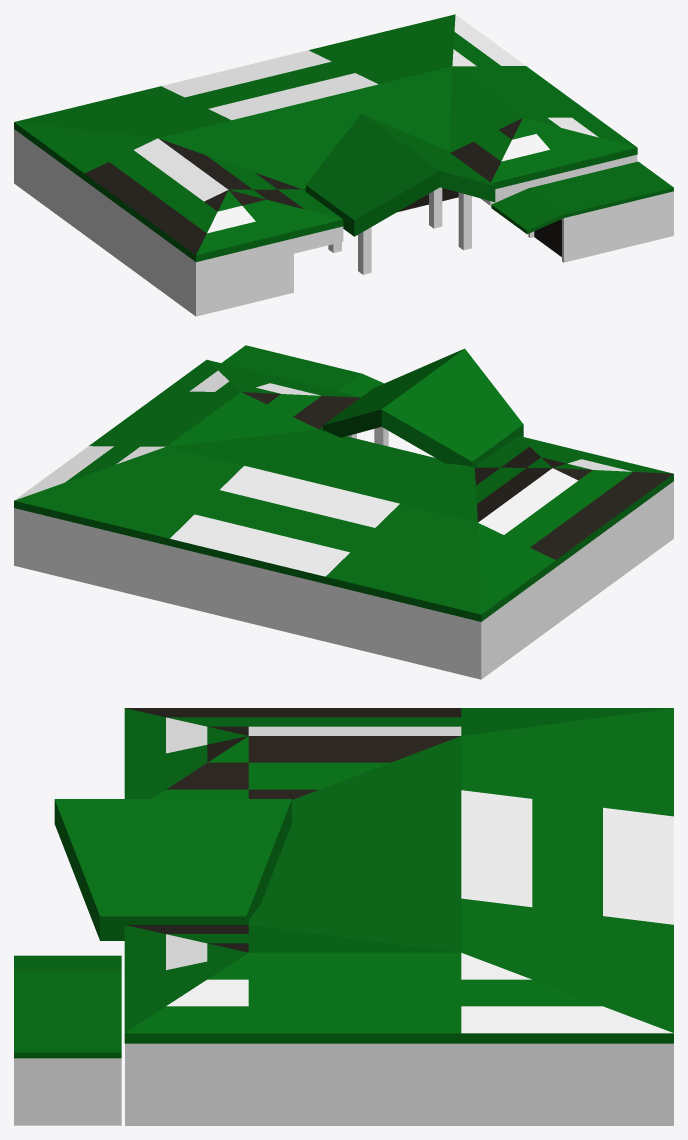
The model's file is Agno.fbx.
3 views of the same model, one above another, from view 1: azimuth 30°, elevation 25°; view 2: azimuth 150°, elevation 25°; view 3: azimuth 270°, elevation 25° (orthographic). The views are drawn at different scales.
Visible parts, largest first — view 1: Agno; view 2: Agno; view 3: Agno.
Part boxes in pixels (left/top/right/bottom): Agno: left=14, top=14, right=673, bottom=316; Agno: left=14, top=345, right=673, bottom=679; Agno: left=14, top=708, right=673, bottom=1125.
Bounding box in the file's own units: 77.61 × 18.29 × 66.58.
